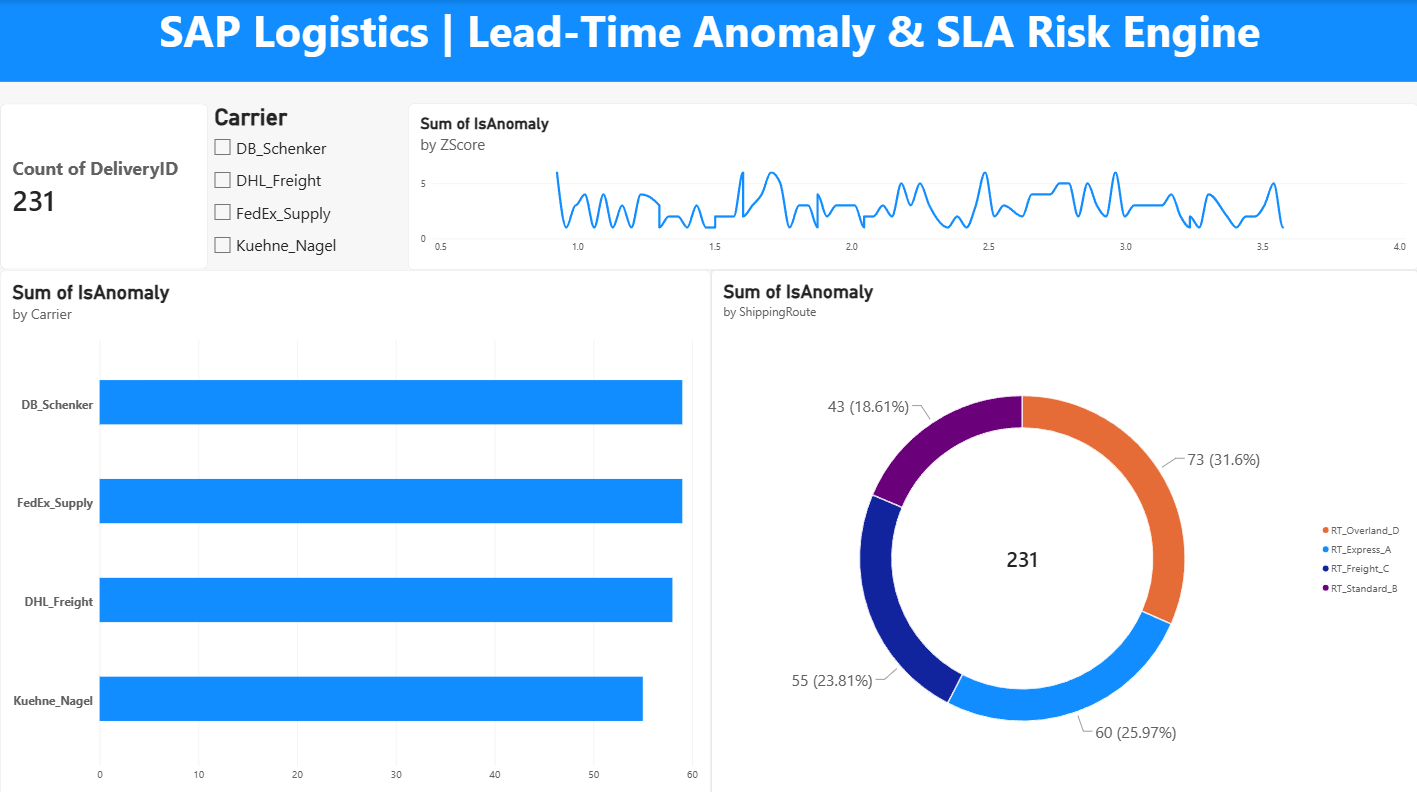

The dashboard page shown, as its layout file describes it:
{"tool":"powerbi","page":{"name":"Page 1","canvas":[1920,1080],"ordinal":0},"visuals":[{"type":"cardVisual","fields":{"Data":["Count(anomaly_audit_report.DeliveryID)"]},"box":[0,140.8,281.6,224.9],"z":0},{"type":"clusteredBarChart","fields":{"Category":["anomaly_audit_report.Carrier"],"Y":["Sum(anomaly_audit_report.IsAnomaly)"]},"box":[0,365.7,961,714.3],"z":1},{"type":"donutChart","fields":{"Category":["anomaly_audit_report.ShippingRoute"],"Y":["Sum(anomaly_audit_report.IsAnomaly)"]},"box":[961,365.7,958.1,714.3],"z":2},{"type":"slicer","fields":{"Values":["anomaly_audit_report.Carrier"]},"box":[281.6,140.8,270.3,224.9],"z":3},{"type":"textbox","box":[0,0,1919.1,110.6],"z":4},{"type":"lineChart","fields":{"Category":["anomaly_audit_report.ZScore"],"Y":["Sum(anomaly_audit_report.IsAnomaly)"]},"box":[551.9,140.8,1367.3,224.9],"z":5}]}

Visuals, with their boxes in screenshot pixels (x1, y1, x2, y2), scaled from the page's 1920x1080 canvas onto the 1417x792 screenshot:
cardVisual - Count(anomaly_audit_report.DeliveryID): 0,103,208,268
clusteredBarChart - anomaly_audit_report.Carrier x Sum(anomaly_audit_report.IsAnomaly): 0,268,709,791
donutChart - anomaly_audit_report.ShippingRoute x Sum(anomaly_audit_report.IsAnomaly): 709,268,1416,791
slicer - anomaly_audit_report.Carrier: 208,103,407,268
textbox: 0,0,1416,81
lineChart - anomaly_audit_report.ZScore x Sum(anomaly_audit_report.IsAnomaly): 407,103,1416,268
